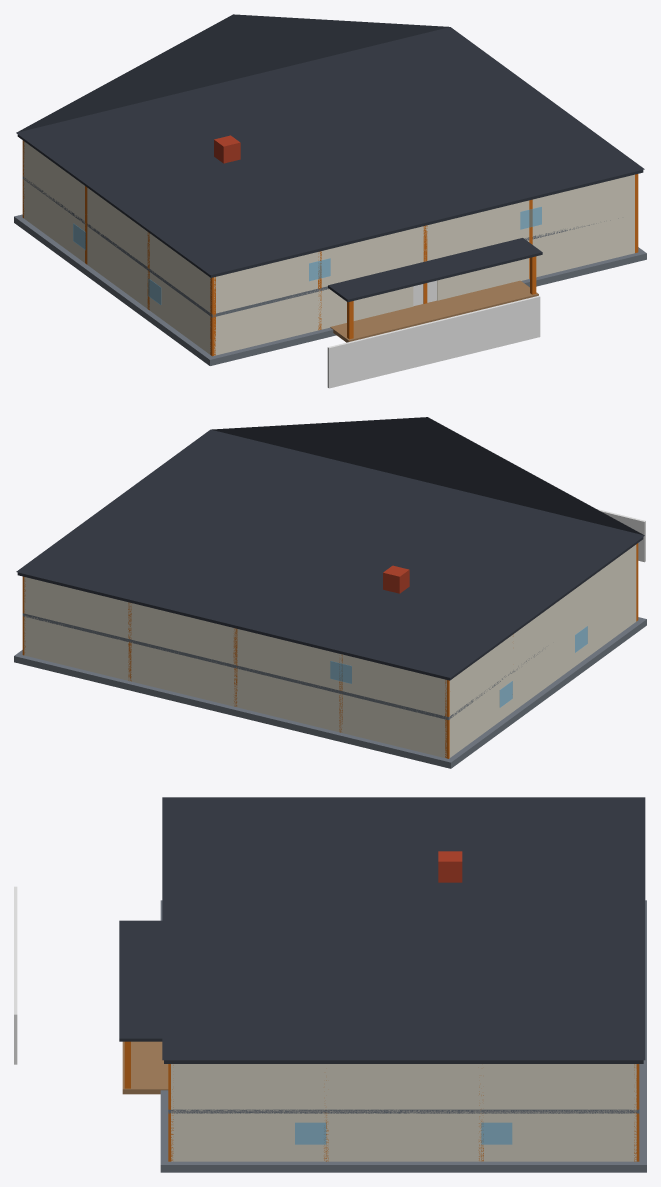
The model's file is blueprint_3d_proj1_950.obj.
3 renders of one model, top to bottom at view 1: azimuth 30°, elevation 25°; view 2: azimuth 150°, elevation 25°; view 3: azimuth 270°, elevation 25°, orthographic. The views are drawn at different scales.
Visible parts, largest first — view 1: Roof_Gable_Pitch, Ext_Wall_South_2F, Ext_Wall_West, Ext_Wall_West_2F, Ext_Wall_South_Left, Ext_Wall_South_Right, Foundation_Slab, Int_Wall_Custom_9, Int_Wall_Custom_10, Porch_Shed_Roof, Porch_Deck, Roof_Cap_Base (+2 smaller); view 2: Roof_Gable_Pitch, Ext_Wall_North, Ext_Wall_North_2F, Ext_Wall_West, Ext_Wall_West_2F, Foundation_Slab, Roof_Cap_Base, Second_Floor_Slab, Masonry_Chimney, Int_Wall_Custom_9; view 3: Roof_Gable_Pitch, Ext_Wall_East, Ext_Wall_East_2F, Foundation_Slab, Porch_Shed_Roof, Second_Floor_Slab, Porch_Deck, Roof_Cap_Base, Masonry_Chimney, Window_East_2, Window_East_1.
Boxes of the visible parts, bbox=[...] form: Roof_Gable_Pitch: bbox=[16, 14, 644, 275]; Ext_Wall_South_2F: bbox=[214, 174, 634, 313]; Ext_Wall_West: bbox=[23, 178, 210, 354]; Ext_Wall_West_2F: bbox=[23, 141, 211, 312]; Ext_Wall_South_Left: bbox=[214, 286, 413, 355]; Ext_Wall_South_Right: bbox=[437, 213, 634, 300]; Foundation_Slab: bbox=[14, 214, 646, 365]; Int_Wall_Custom_9: bbox=[327, 321, 434, 388]; Int_Wall_Custom_10: bbox=[433, 295, 540, 362]; Porch_Shed_Roof: bbox=[328, 238, 542, 302]; Porch_Deck: bbox=[330, 280, 538, 342]; Roof_Cap_Base: bbox=[17, 134, 643, 277]; Roof_Gable_Pitch: bbox=[16, 417, 644, 677]; Ext_Wall_North: bbox=[24, 615, 446, 758]; Ext_Wall_North_2F: bbox=[24, 577, 446, 716]; Ext_Wall_West: bbox=[449, 581, 636, 757]; Ext_Wall_West_2F: bbox=[449, 544, 636, 717]; Foundation_Slab: bbox=[14, 617, 646, 768]; Roof_Cap_Base: bbox=[17, 537, 643, 680]; Second_Floor_Slab: bbox=[22, 613, 542, 720]; Masonry_Chimney: bbox=[383, 565, 409, 593]; Int_Wall_Custom_9: bbox=[597, 509, 645, 562]; Roof_Gable_Pitch: bbox=[162, 797, 645, 1060]; Ext_Wall_East: bbox=[171, 1111, 636, 1161]; Ext_Wall_East_2F: bbox=[171, 1064, 636, 1111]; Foundation_Slab: bbox=[160, 900, 646, 1172]; Porch_Shed_Roof: bbox=[119, 920, 162, 1041]; Second_Floor_Slab: bbox=[168, 1109, 639, 1113]; Porch_Deck: bbox=[122, 1041, 168, 1094]; Roof_Cap_Base: bbox=[164, 1060, 643, 1063]; Masonry_Chimney: bbox=[438, 851, 462, 882]; Window_East_2: bbox=[295, 1122, 326, 1144]; Window_East_1: bbox=[481, 1122, 512, 1144].
Size of the model in its own units: 36.3 by 12.81 by 36.7.
